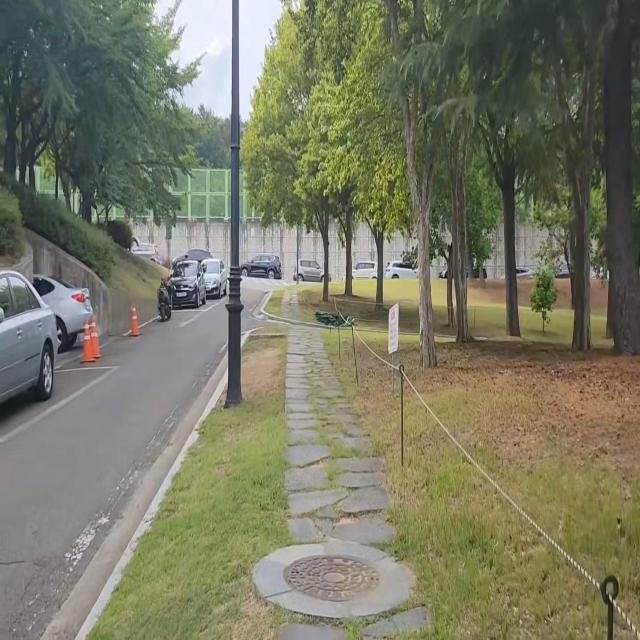obstacle: (152, 255, 244, 333), (224, 0, 241, 403), (28, 268, 96, 351)
road: (0, 283, 270, 640)
sidewalk: (275, 326, 448, 640)
